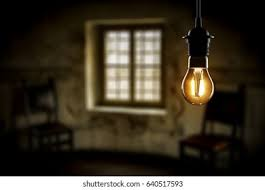bulb: (174, 56, 225, 107)
